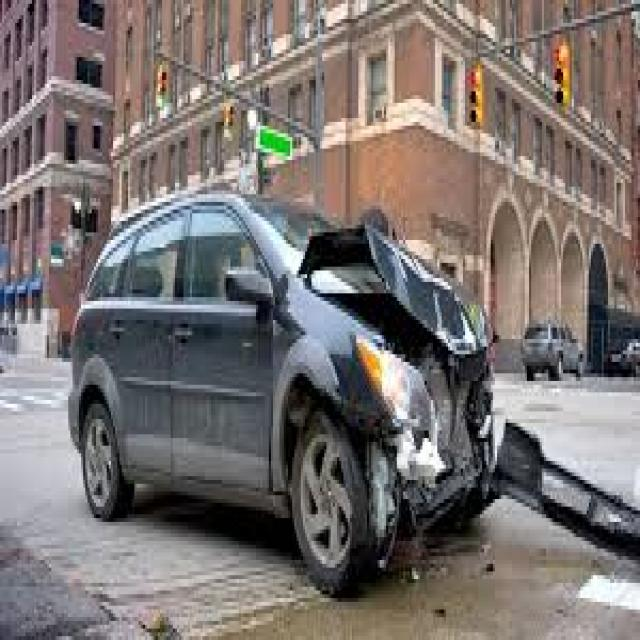minor: (288, 156, 533, 640)
